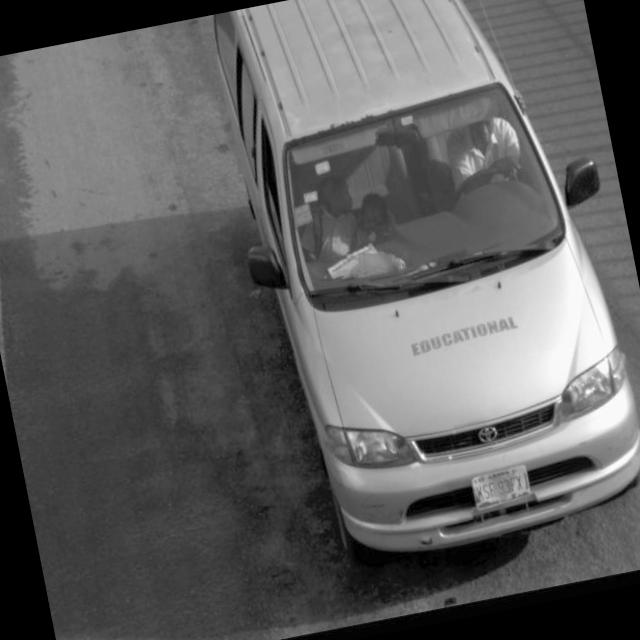person_without_seatbelt: (424, 97, 536, 222)
